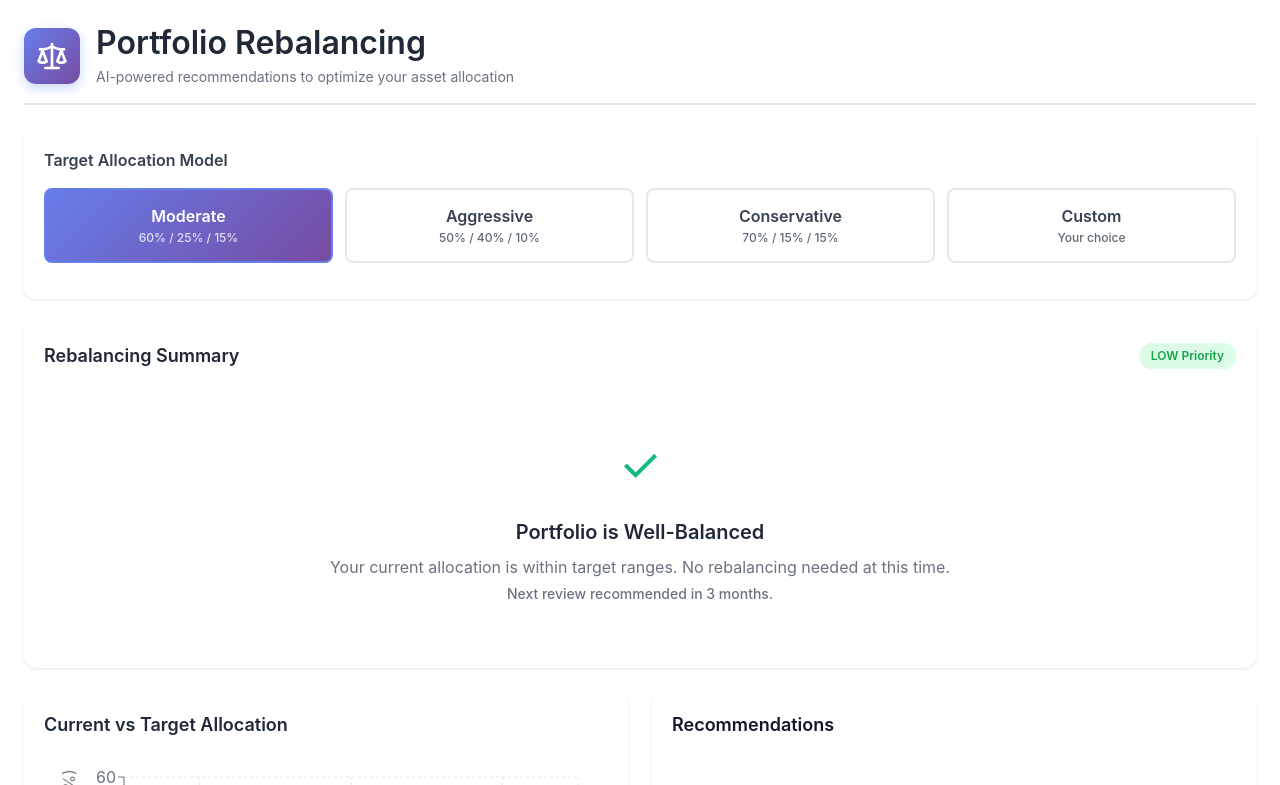
RebalancingPage › should show custom allocation inputs when custom model selected
Expected: the text "Custom" is shown, x1=1062 y1=206 x2=1122 y2=226
Click the button "Custom Your choice". click: (1092, 225)
box: x1=947 y1=188 x2=1236 y2=263
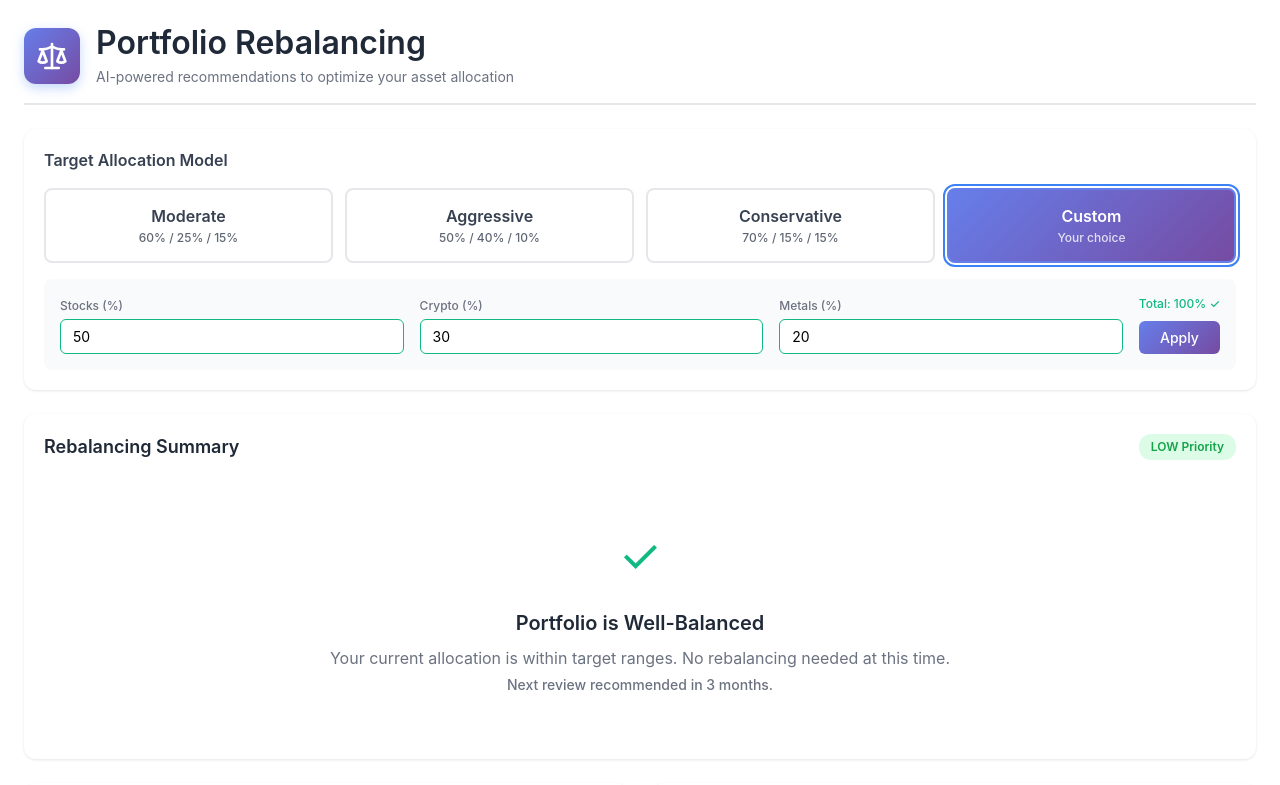
Expected: the number field labelled "Stocks (%)" is shown, x1=60 y1=319 x2=404 y2=354
Expected: the number field labelled "Crypto (%)" is shown, x1=420 y1=319 x2=763 y2=354
Expected: the number field labelled "Metals (%)" is shown, x1=779 y1=319 x2=1123 y2=354
